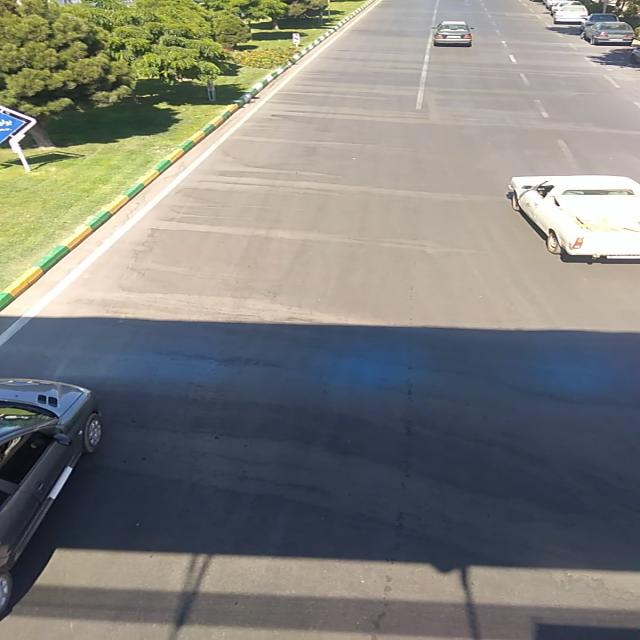car: (0, 378, 114, 616), (504, 175, 640, 262), (583, 21, 635, 45), (432, 19, 476, 47), (578, 14, 625, 28), (552, 5, 587, 23)
